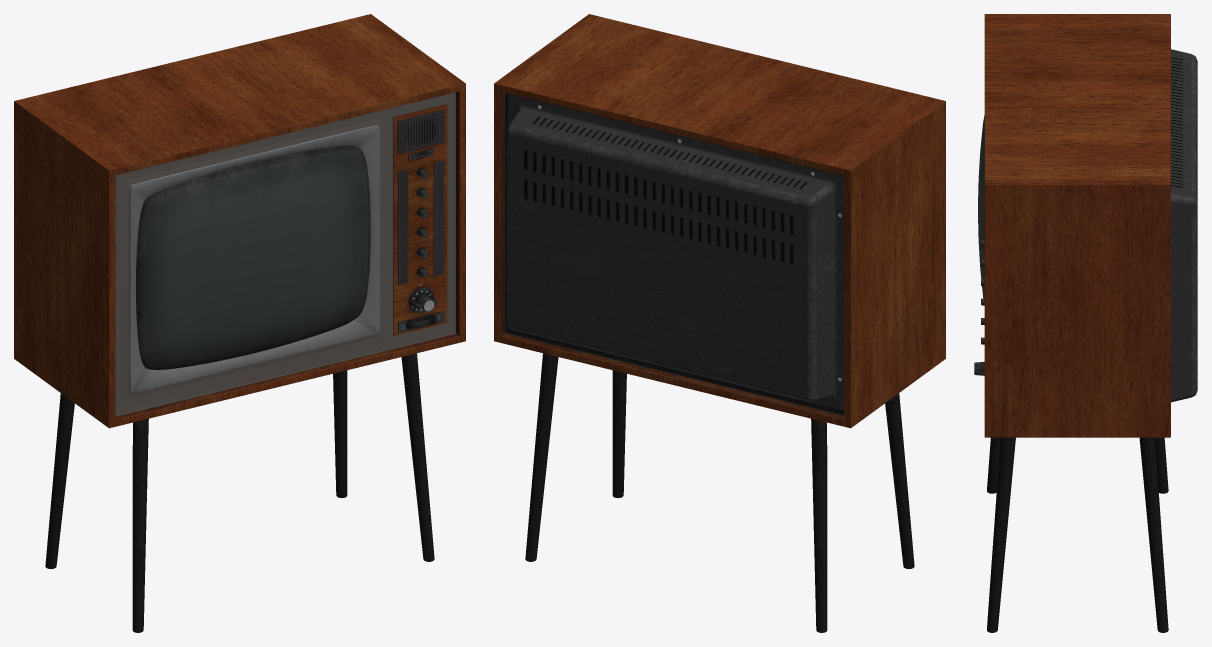
File: retro-tv.glb
3 views of the same model, side by side, from view 1: azimuth 30°, elevation 25°; view 2: azimuth 150°, elevation 25°; view 3: azimuth 270°, elevation 25° (orthographic). The views are drawn at different scales.
Visible parts, largest first — view 1: TV; view 2: TV; view 3: TV.
Part boxes in pixels (x1,y1,x2,y2): TV: [14, 14, 465, 632]; TV: [494, 14, 945, 632]; TV: [978, 14, 1197, 632].
Bounding box in the file's own units: 4.4 × 5.54 × 2.43.
Materials: 2 (2 with a texture image).
